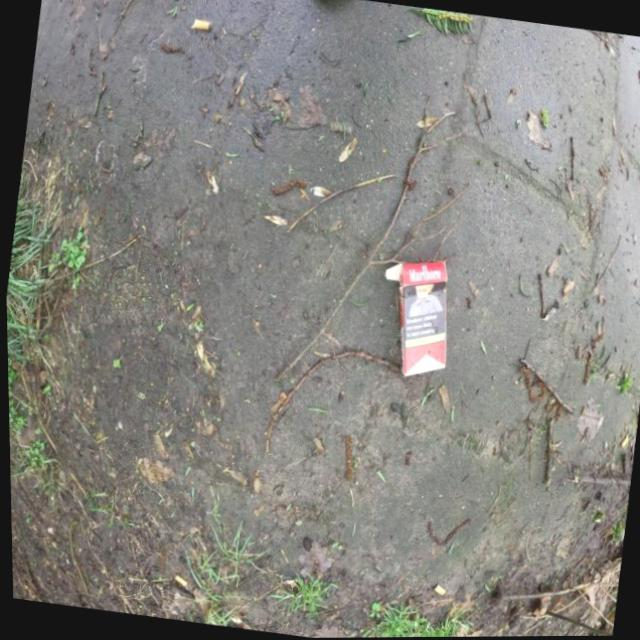Paper: (369, 254, 459, 384)
